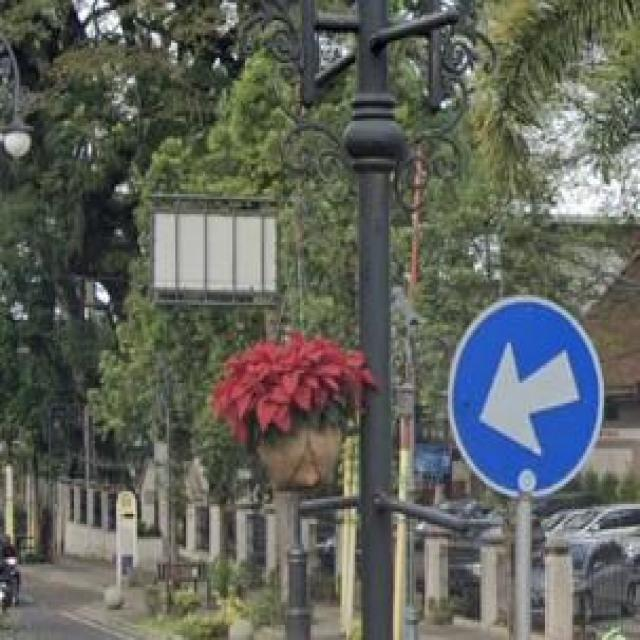traffic sign: (450, 298, 598, 492)
